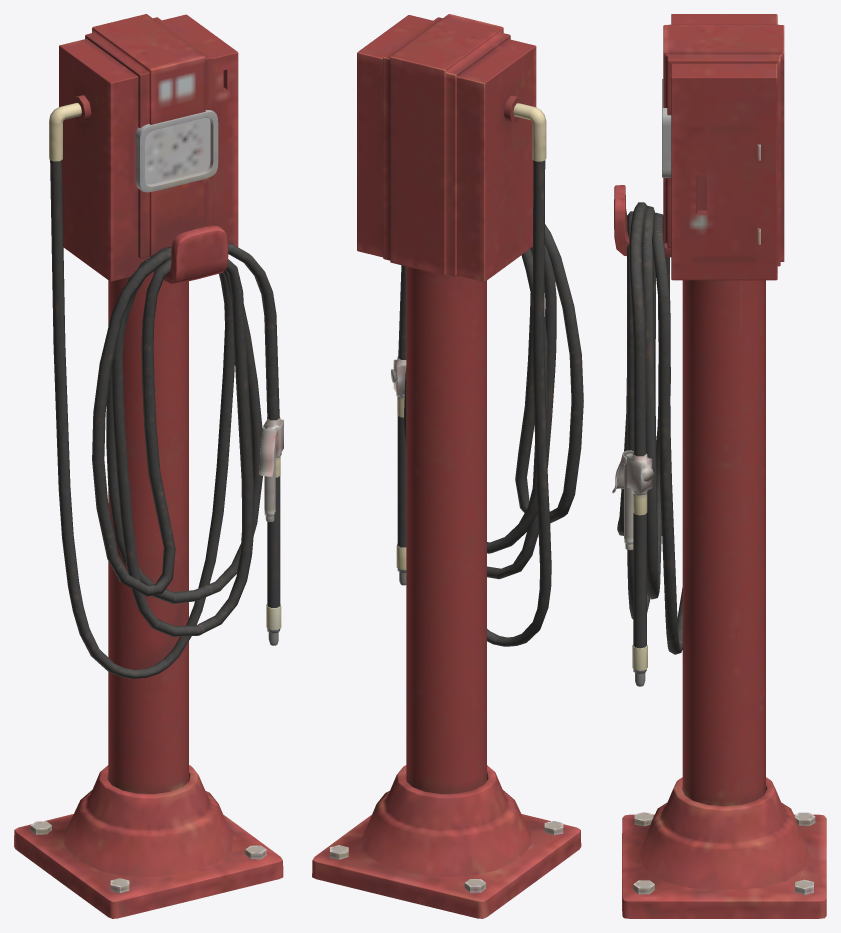
File: sm24_027_gasstationair01a.fbx
3 views of the same model, side by side, from view 1: azimuth 30°, elevation 25°; view 2: azimuth 150°, elevation 25°; view 3: azimuth 270°, elevation 25° (orthographic). The views are drawn at different scales.
Parts seen in each view (by area): view 1: LOD_1_Group_0_Sub_1__sm24_027_GasStationAir01A_A_Mat; view 2: LOD_1_Group_0_Sub_1__sm24_027_GasStationAir01A_A_Mat; view 3: LOD_1_Group_0_Sub_1__sm24_027_GasStationAir01A_A_Mat.
Part boxes in pixels (box(x1,y1,x2,y2)): LOD_1_Group_0_Sub_1__sm24_027_GasStationAir01A_A_Mat: box(14, 14, 283, 918); LOD_1_Group_0_Sub_1__sm24_027_GasStationAir01A_A_Mat: box(312, 14, 583, 918); LOD_1_Group_0_Sub_1__sm24_027_GasStationAir01A_A_Mat: box(612, 14, 826, 918).
Size of the model in its own units: 0.37 by 1.49 by 0.3466.
